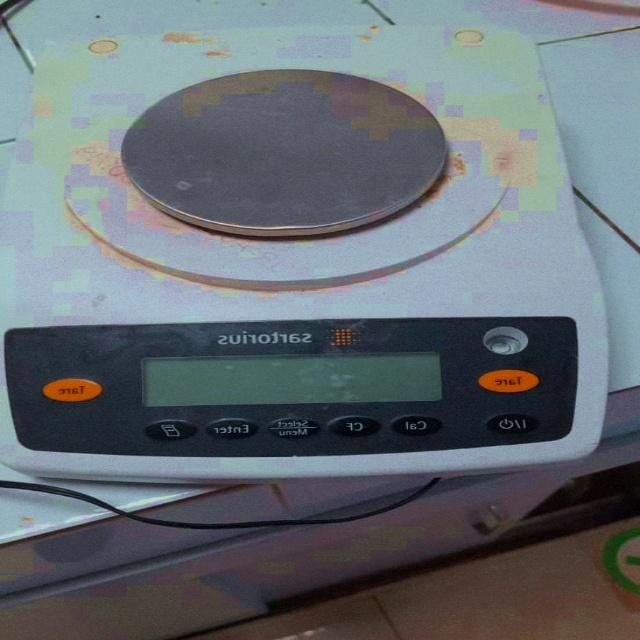Electronic balance: (1, 24, 614, 485)
